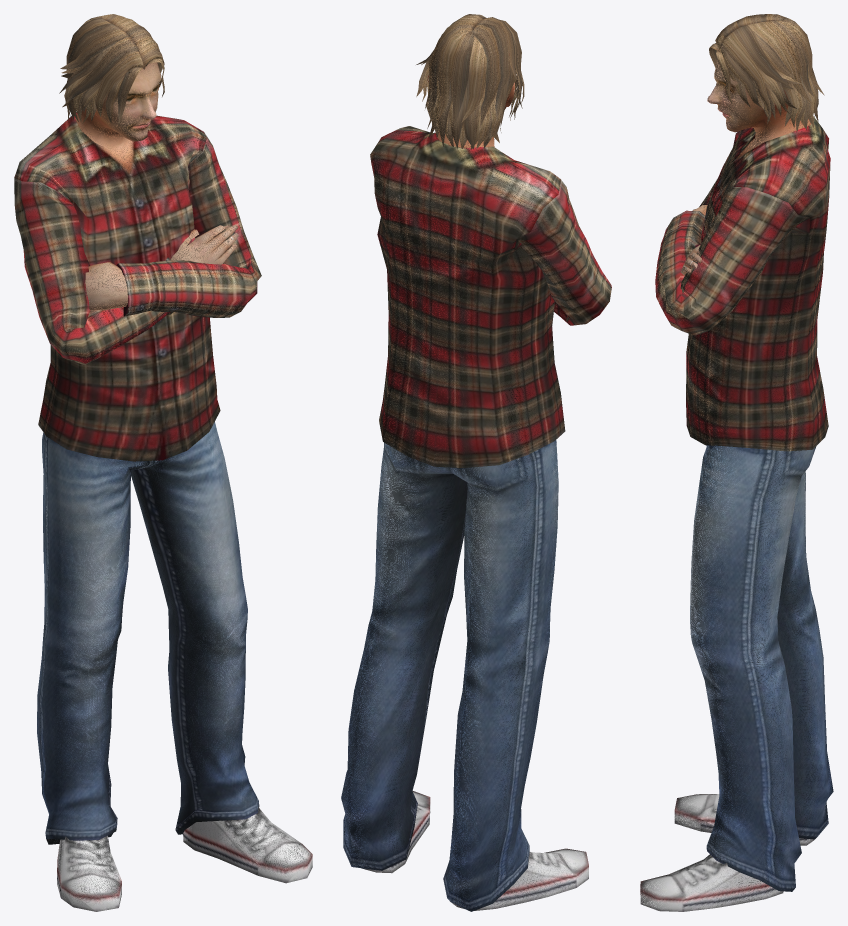
File: male03.obj
3 views of the same model, side by side, from view 1: azimuth 30°, elevation 25°; view 2: azimuth 150°, elevation 25°; view 3: azimuth 270°, elevation 25° (orthographic). The views are drawn at different scales.
Parts seen in each view (by area): view 1: 5_5, 2_2, 1_1, 54_54, 6_6, 3_3, 9_9, 7_7, 16_16; view 2: 5_5, 2_2, 54_54, 6_6, 1_1, 37_37; view 3: 5_5, 2_2, 54_54, 1_1, 3_3, 6_6, 16_16.
Part boxes in pixels (box(x1,y1,x2,y2)): 5_5: box(37, 422, 259, 844); 2_2: box(14, 111, 261, 461); 1_1: box(183, 807, 312, 883); 54_54: box(59, 14, 164, 116); 6_6: box(57, 835, 121, 911); 3_3: box(75, 62, 161, 149); 9_9: box(171, 224, 238, 264); 7_7: box(85, 262, 127, 310); 16_16: box(117, 58, 164, 123); 5_5: box(341, 440, 558, 911); 2_2: box(370, 126, 611, 467); 54_54: box(416, 14, 522, 127); 6_6: box(450, 848, 588, 910); 1_1: box(362, 791, 430, 873); 37_37: box(463, 80, 485, 149); 5_5: box(690, 445, 833, 891); 2_2: box(655, 116, 830, 451); 54_54: box(715, 14, 824, 112); 1_1: box(640, 854, 783, 911); 3_3: box(707, 59, 810, 143); 6_6: box(674, 794, 813, 845); 16_16: box(709, 43, 732, 104).
Size of the model in its own units: 55.7 by 184 by 39.1.
4 materials, 3 textured.
